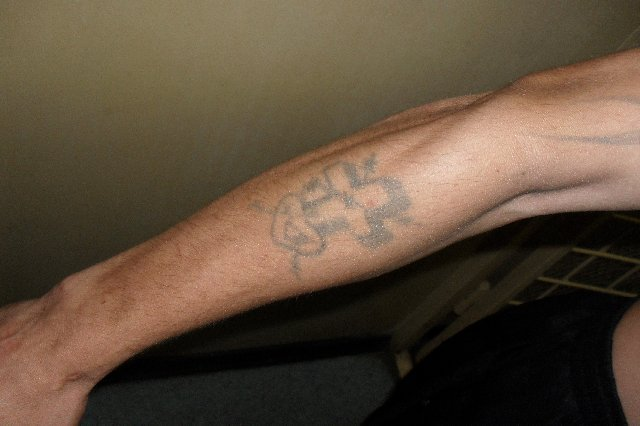tatu9_krest: (269, 152, 412, 259)
